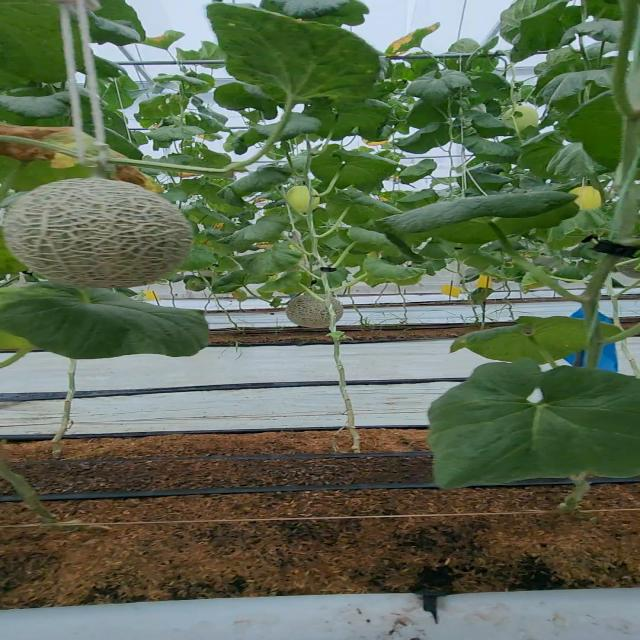Melon: (0, 180, 199, 294)
